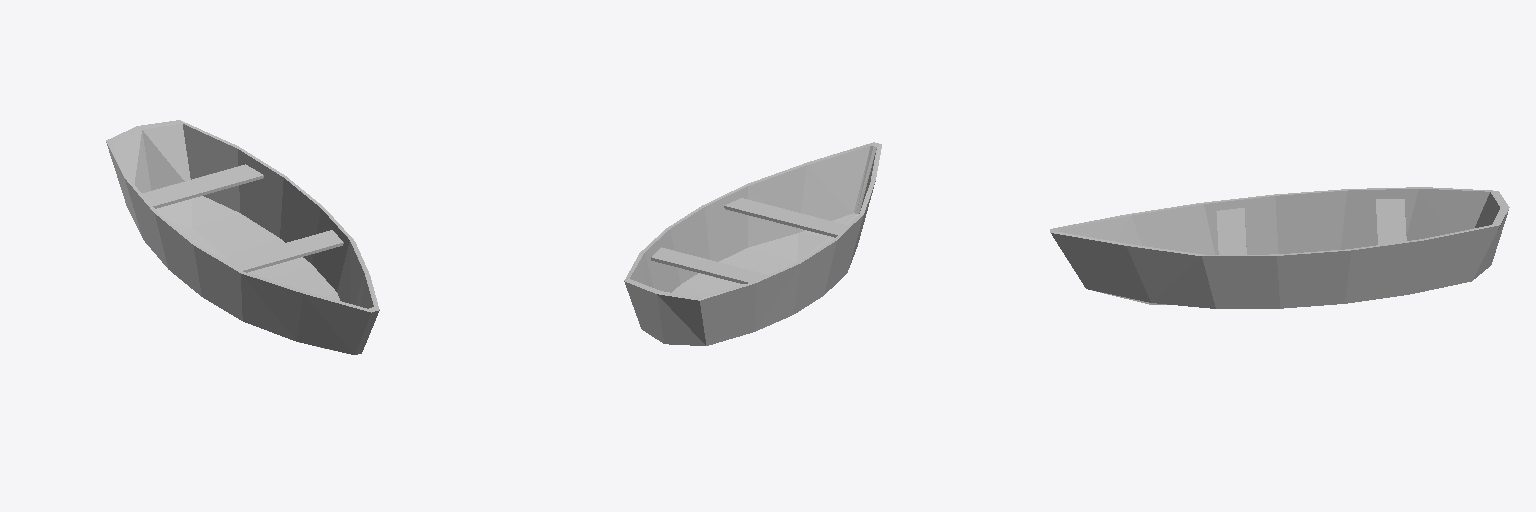
Rendered from figure.obj.
3 views of the same model, side by side, from view 1: azimuth 30°, elevation 25°; view 2: azimuth 150°, elevation 25°; view 3: azimuth 270°, elevation 25° (orthographic).
Visible parts, largest first — view 1: Cube, Cube.001; view 2: Cube, Cube.001; view 3: Cube, Cube.001.
Boxes of the visible parts, <box> form: Cube: <box>106,120,379,354</box>; Cube.001: <box>142,164,343,272</box>; Cube: <box>624,142,881,345</box>; Cube.001: <box>651,198,847,283</box>; Cube: <box>1050,187,1509,308</box>; Cube.001: <box>1216,199,1406,254</box>.
Bounding box in the file's own units: 4.96 × 3.32 × 14.66.